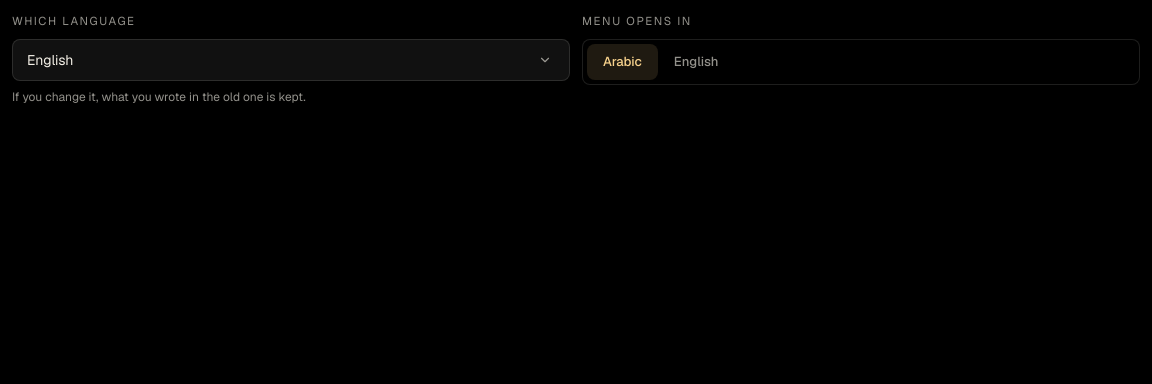
it: LanguageChoice › never offers the main language as the second one
The width and height of the screenshot is (1152, 384).
Click the dropdown labelled "Which language" at (291, 60), box [13,40,569,80]
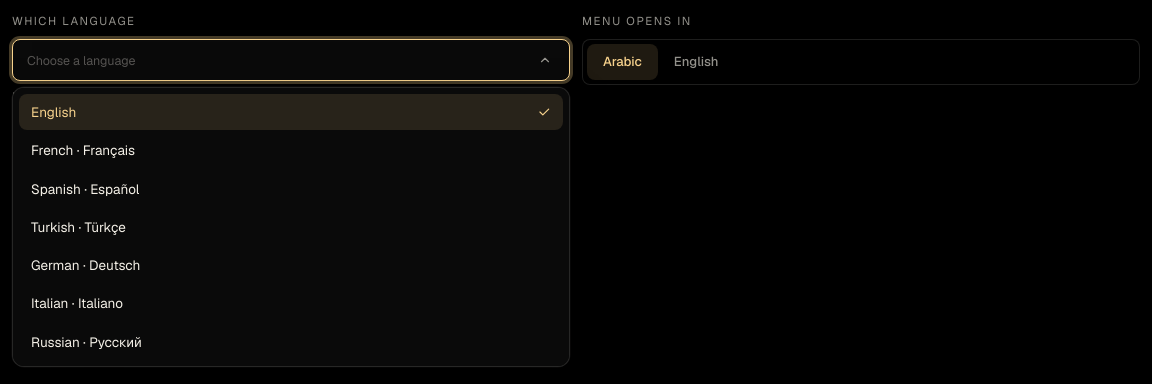
expect the option "English" is shown: met, box [19,94,563,130]
